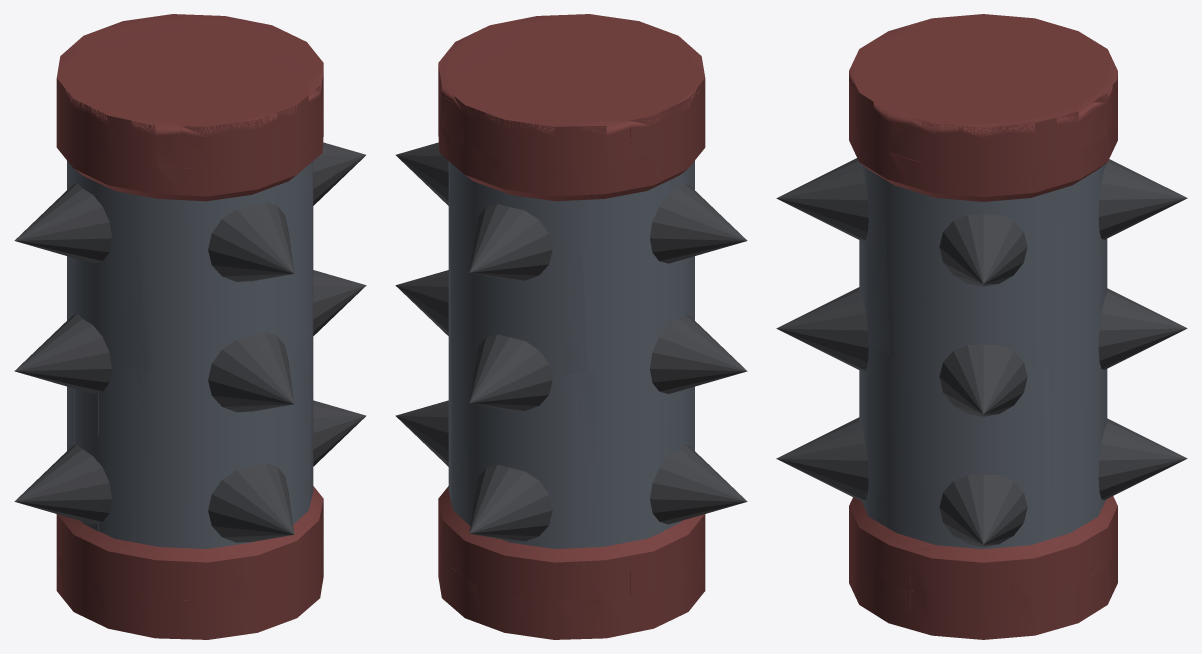
File: ColumnSpikesFractured2.fbx
The picture shows the model from 3 angles, left to right: view 1: azimuth 30°, elevation 25°; view 2: azimuth 150°, elevation 25°; view 3: azimuth 270°, elevation 25°; orthographic projection.
Parts seen in each view (by area): view 1: Цилиндр_Цилиндр.001, Конус.001_Конус.004, Цилиндр_Цилиндр.001_cell.046, Цилиндр_Цилиндр.001_cell.058, Цилиндр_Цилиндр.001_cell, Цилиндр_Цилиндр.001_cell.016, Цилиндр_Цилиндр.001_cell.024, Цилиндр_Цилиндр.001_cell.012, Цилиндр_Цилиндр.001_cell.039, Цилиндр_Цилиндр.001_cell.001, Цилиндр_Цилиндр.001_cell.055, Цилиндр_Цилиндр.001_cell.040 (+19 smaller); view 2: Цилиндр_Цилиндр.001, Конус.001_Конус.004, Цилиндр_Цилиндр.001_cell.048, Цилиндр_Цилиндр.001_cell.049, Цилиндр_Цилиндр.001_cell.051, Цилиндр_Цилиндр.001_cell.026, Цилиндр_Цилиндр.001_cell.053, Цилиндр_Цилиндр.001_cell.105, Цилиндр_Цилиндр.001_cell.027, Цилиндр_Цилиндр.001_cell.104, Цилиндр_Цилиндр.001_cell.043, Цилиндр_Цилиндр.001_cell.068 (+25 smaller); view 3: Цилиндр_Цилиндр.001, Конус.001_Конус.004, Цилиндр_Цилиндр.001_cell.066, Цилиндр_Цилиндр.001_cell.004, Цилиндр_Цилиндр.001_cell.014, Цилиндр_Цилиндр.001_cell, Цилиндр_Цилиндр.001_cell.064, Цилиндр_Цилиндр.001_cell.028, Цилиндр_Цилиндр.001_cell.068, Цилиндр_Цилиндр.001_cell.033, Цилиндр_Цилиндр.001_cell.006, Цилиндр_Цилиндр.001_cell.001 (+27 smaller).
Part boxes in pixels (x1,y1,x2,y2): Цилиндр_Цилиндр.001: (56, 16, 323, 636); Конус.001_Конус.004: (14, 142, 366, 542); Цилиндр_Цилиндр.001_cell.046: (94, 179, 144, 369); Цилиндр_Цилиндр.001_cell.058: (133, 368, 182, 553); Цилиндр_Цилиндр.001_cell: (270, 172, 302, 355); Цилиндр_Цилиндр.001_cell.016: (182, 197, 229, 374); Цилиндр_Цилиндр.001_cell.024: (136, 195, 181, 372); Цилиндр_Цилиндр.001_cell.012: (229, 190, 270, 344); Цилиндр_Цилиндр.001_cell.039: (181, 598, 232, 639); Цилиндр_Цилиндр.001_cell.001: (300, 163, 311, 341); Цилиндр_Цилиндр.001_cell.055: (68, 389, 98, 539); Цилиндр_Цилиндр.001_cell.040: (131, 594, 181, 639); Цилиндр_Цилиндр.001: (438, 14, 705, 639); Конус.001_Конус.004: (395, 142, 747, 541); Цилиндр_Цилиндр.001_cell.048: (532, 374, 580, 557); Цилиндр_Цилиндр.001_cell.049: (531, 194, 588, 375); Цилиндр_Цилиндр.001_cell.051: (577, 373, 624, 557); Цилиндр_Цилиндр.001_cell.026: (491, 407, 532, 548); Цилиндр_Цилиндр.001_cell.053: (629, 363, 668, 552); Цилиндр_Цилиндр.001_cell.105: (580, 553, 629, 600); Цилиндр_Цилиндр.001_cell.027: (484, 545, 529, 597); Цилиндр_Цилиндр.001_cell.104: (630, 540, 670, 594); Цилиндр_Цилиндр.001_cell.043: (630, 582, 670, 633); Цилиндр_Цилиндр.001_cell.068: (461, 172, 491, 305); Цилиндр_Цилиндр.001: (849, 16, 1117, 639); Конус.001_Конус.004: (776, 158, 1187, 546); Цилиндр_Цилиндр.001_cell.066: (1007, 192, 1057, 371); Цилиндр_Цилиндр.001_cell.004: (1007, 366, 1054, 551); Цилиндр_Цилиндр.001_cell.014: (1049, 359, 1083, 547); Цилиндр_Цилиндр.001_cell: (864, 170, 887, 353); Цилиндр_Цилиндр.001_cell.064: (912, 188, 959, 371); Цилиндр_Цилиндр.001_cell.028: (909, 104, 967, 166); Цилиндр_Цилиндр.001_cell.068: (1085, 166, 1102, 342); Цилиндр_Цилиндр.001_cell.033: (1009, 596, 1056, 637); Цилиндр_Цилиндр.001_cell.006: (958, 556, 1009, 601); Цилиндр_Цилиндр.001_cell.001: (881, 178, 913, 358).
Size of the model in its own units: 147 by 205 by 149.
